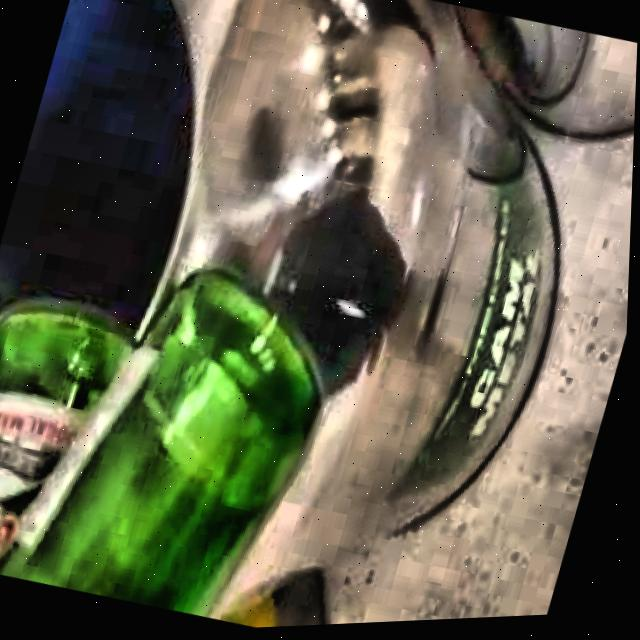glass: (0, 271, 321, 619)
